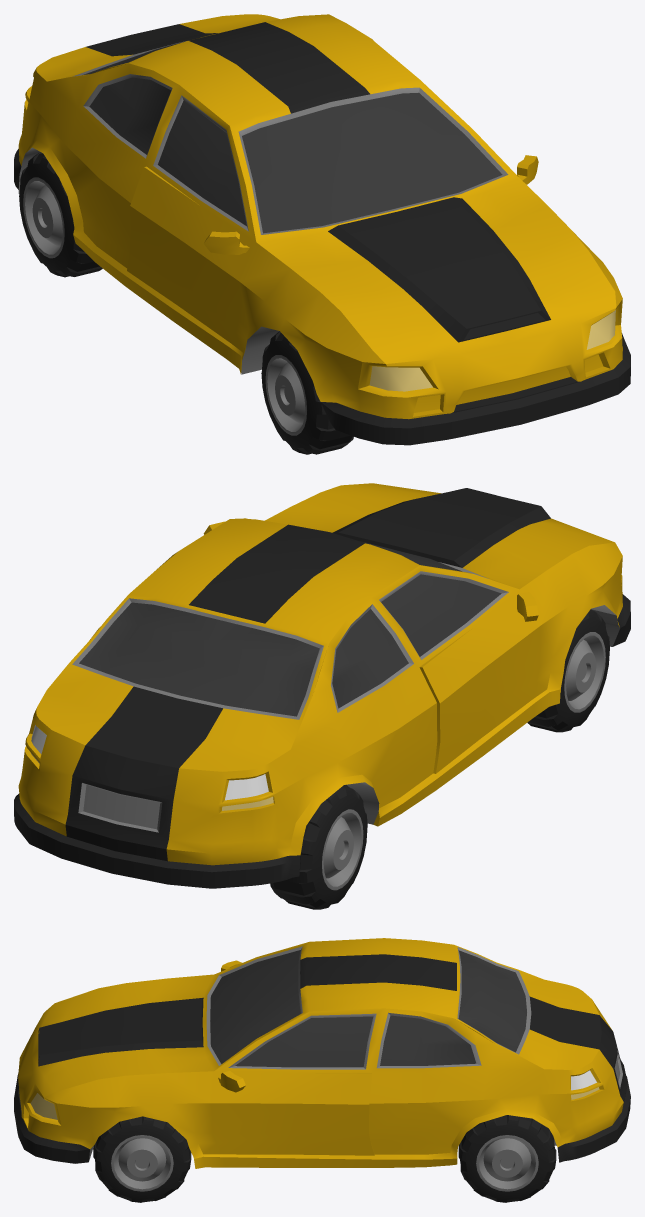
The model's file is Sports Car-Gzj704DXdr.glb.
3 views of the same model, one above another, from view 1: azimuth 30°, elevation 25°; view 2: azimuth 150°, elevation 25°; view 3: azimuth 270°, elevation 25° (orthographic). The views are drawn at different scales.
Parts seen in each view (by area): view 1: Sports, FrontWheel_R, BackWheels; view 2: Sports, BackWheels, FrontWheel_R; view 3: Sports, BackWheels, FrontWheel_L.
Boxes of the visible parts, x1=… form: Sports: x1=14, y1=14, x2=630, y2=445; FrontWheel_R: x1=261, y1=331, x2=353, y2=454; BackWheels: x1=19, y1=152, x2=102, y2=277; Sports: x1=14, y1=483, x2=630, y2=888; BackWheels: x1=270, y1=785, x2=367, y2=909; FrontWheel_R: x1=527, y1=609, x2=609, y2=732; Sports: x1=14, y1=938, x2=630, y2=1168; BackWheels: x1=458, y1=1115, x2=556, y2=1202; FrontWheel_L: x1=93, y1=1116, x2=191, y2=1202.
Bounding box in the file's own units: 2.67 × 1.86 × 5.66.
Materials: 3 (1 with a texture image).
